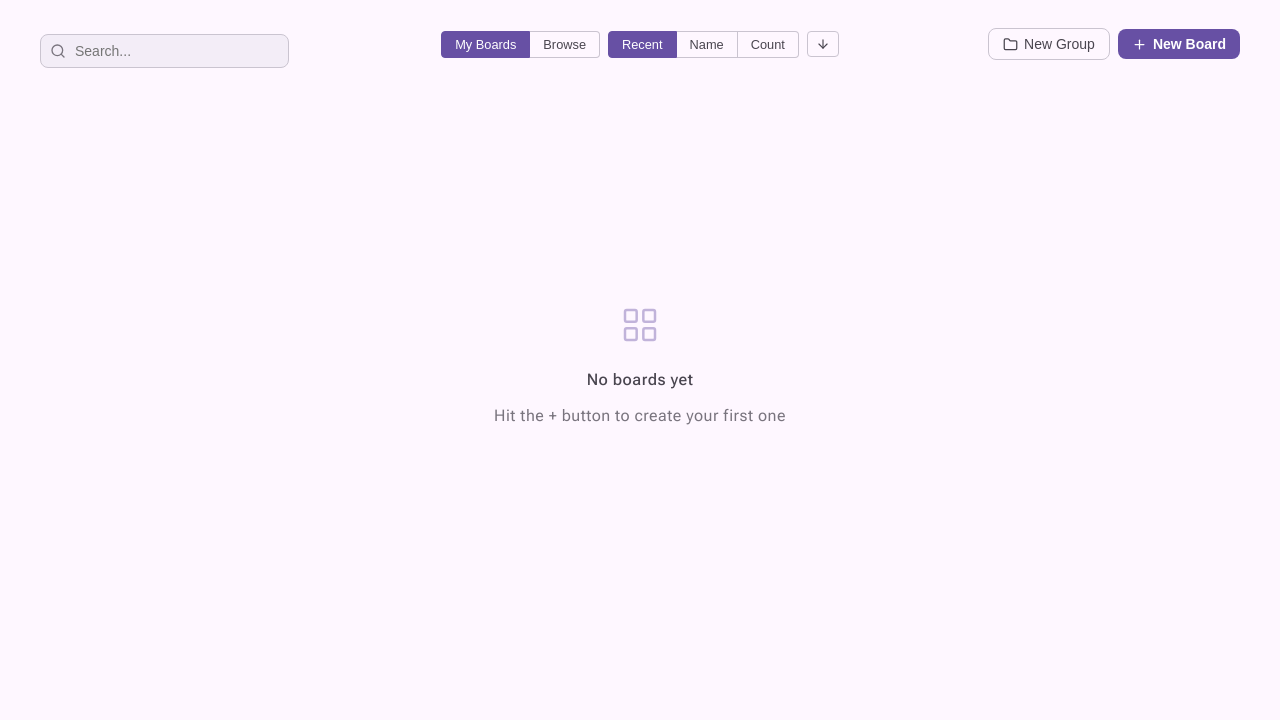
BoardSelector — member search Firestore query › hides the member search when visibility is switched away from private
Click the button "New Board" at (1179, 44), box [1118,29,1240,59]
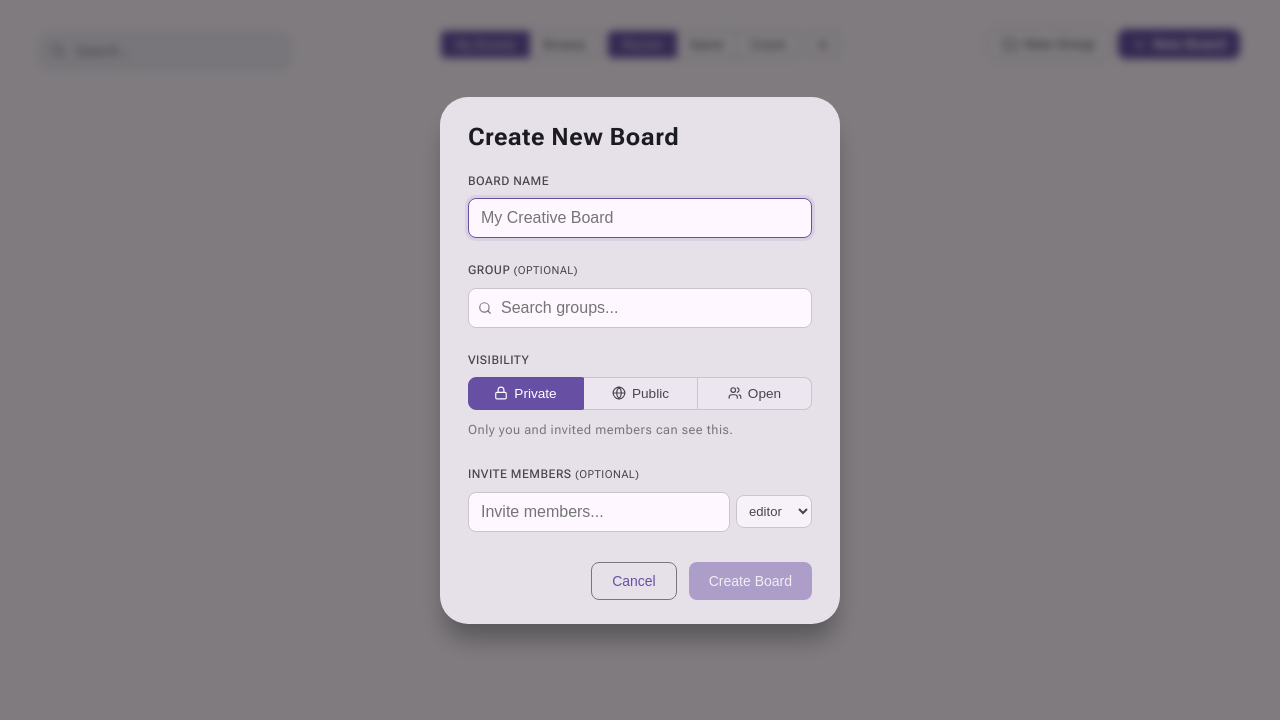
Expected: the field with placeholder "Invite members..." is shown, [468,492,730,532]
Click the button "Public" at (640, 393), box [583,376,698,410]
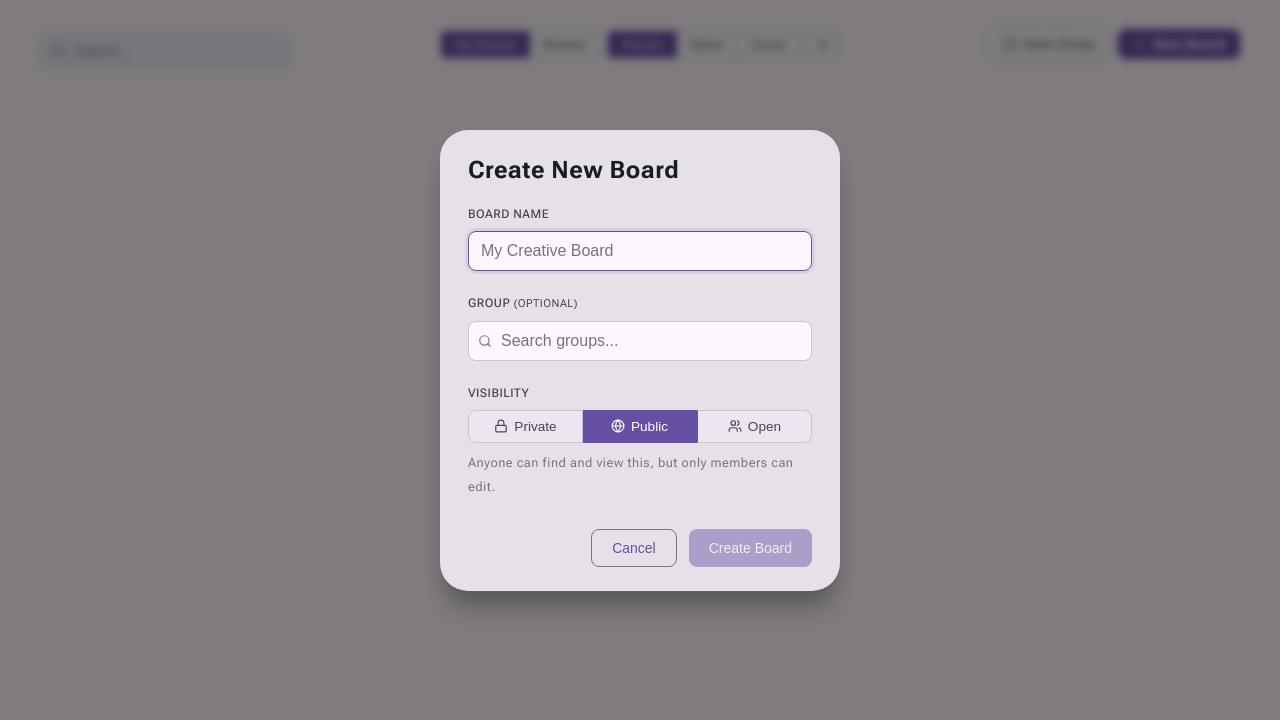
Expected: the label with placeholder "Invite members..." is gone
